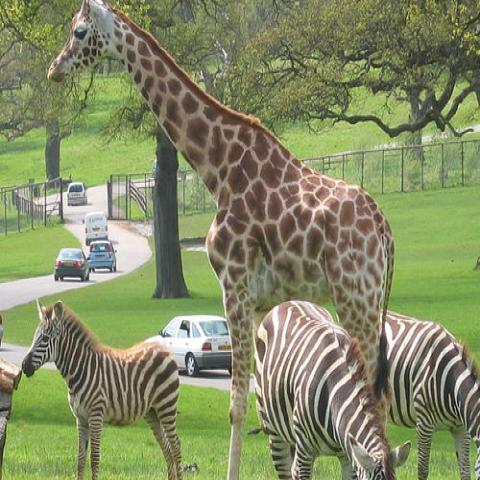car: (146, 314, 234, 376), (54, 245, 90, 283), (88, 240, 118, 274), (83, 212, 108, 246), (67, 182, 88, 206)
